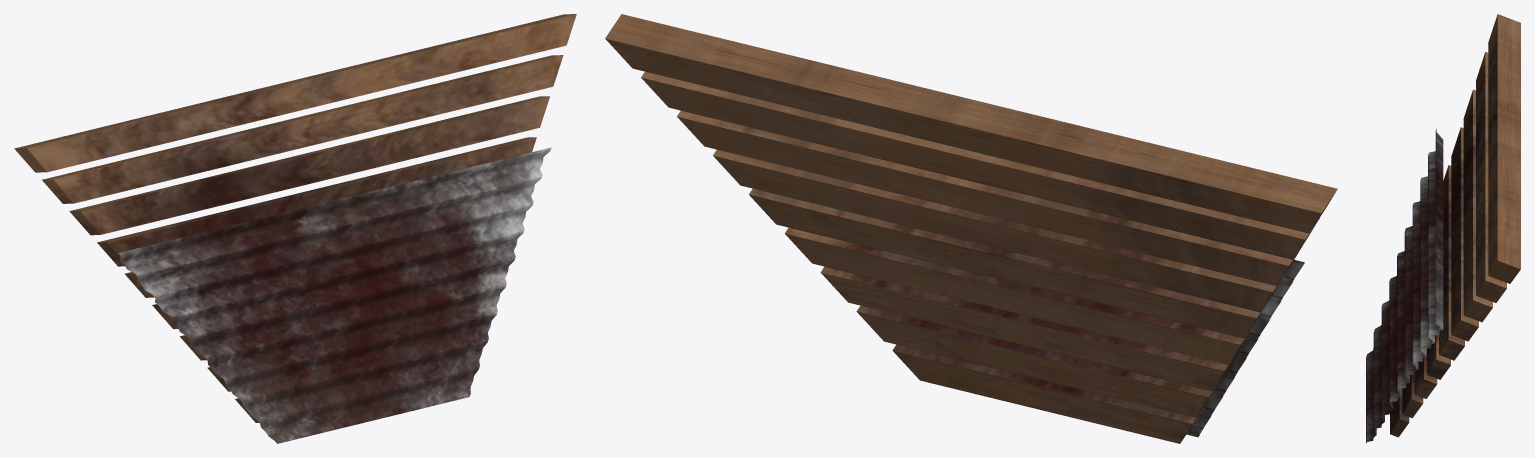
The model's file is trench_end.glb.
The picture shows the model from 3 angles, left to right: view 1: azimuth 30°, elevation 25°; view 2: azimuth 150°, elevation 25°; view 3: azimuth 270°, elevation 25°; orthographic projection. The views are drawn at different scales.
Parts seen in each view (by area): view 1: Plane015_End section_0; view 2: Plane015_End section_0; view 3: Plane015_End section_0.
Part boxes in pixels (left/top/right/bottom): Plane015_End section_0: left=14, top=14, right=576, bottom=443; Plane015_End section_0: left=605, top=14, right=1337, bottom=443; Plane015_End section_0: left=1366, top=14, right=1520, bottom=443.
Bounding box in the file's own units: 3.31 × 1.65 × 0.8789.
1 material, 1 textured.
